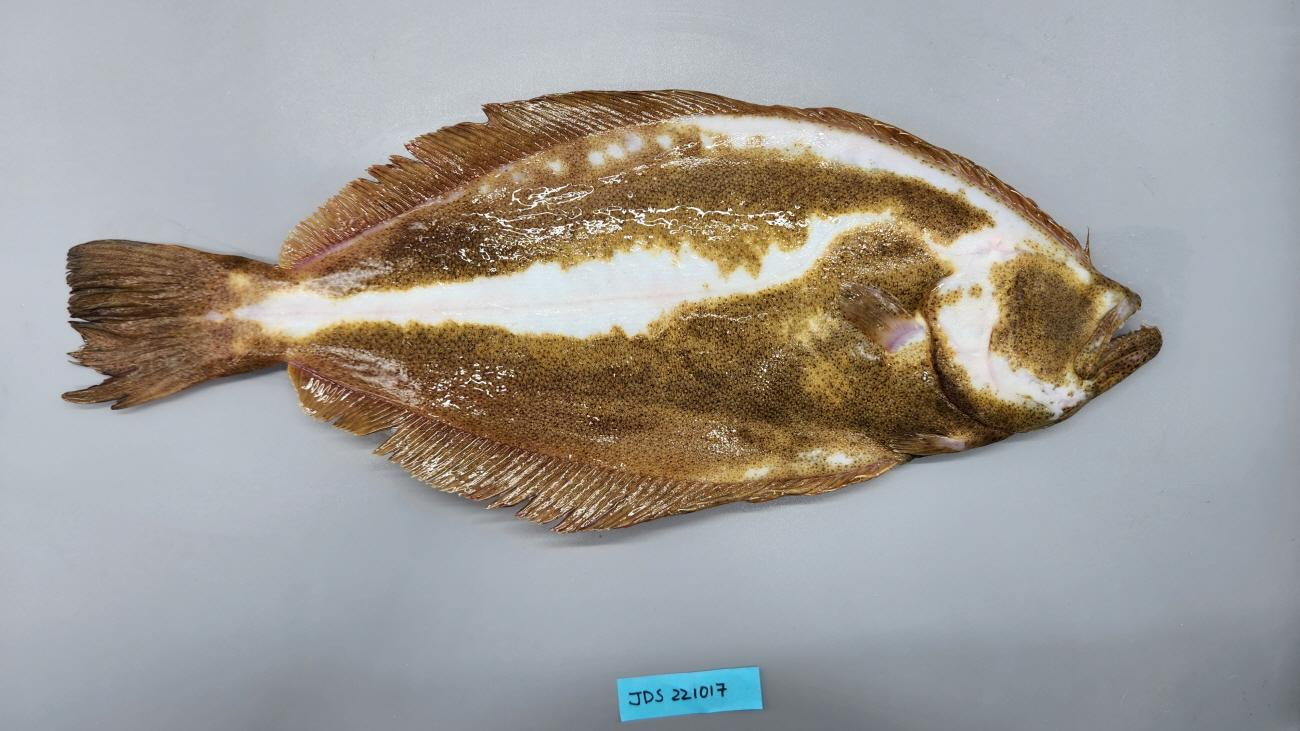POOUN: (63, 88, 1164, 534)
